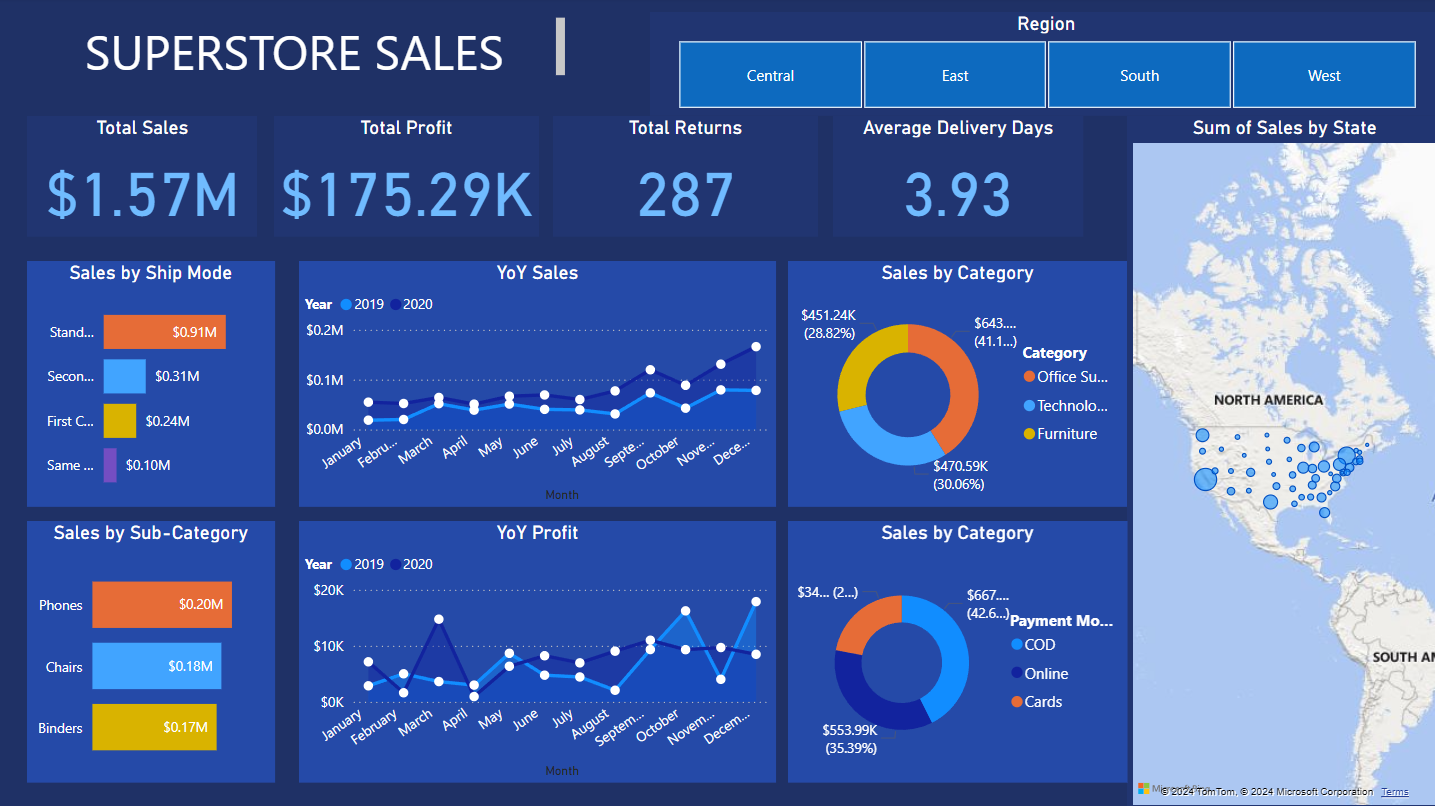

This screenshot's page, from the dashboard's own definition file:
{"tool":"powerbi","page":{"name":"Page 1","canvas":[1280,720],"ordinal":0},"visuals":[{"type":"donutChart","title":"Sales by Category","fields":{"Category":["SuperStore Sales DataSet xlsx - Sheet1.Category"],"Y":["Sum(SuperStore Sales DataSet xlsx - Sheet1.Sales)"]},"box":[699.2,233.5,300.8,218.4],"z":0},{"type":"card","title":"Total Sales","fields":{"Values":["Sum(SuperStore Sales DataSet xlsx - Sheet1.Sales)"]},"box":[24.4,104.5,204.4,106.9],"z":1000},{"type":"barChart","title":"Sales by Sub-Category","fields":{"Y":["Sum(SuperStore Sales DataSet xlsx - Sheet1.Sales)"],"Category":["SuperStore Sales DataSet xlsx - Sheet1.Sub-Category"]},"box":[24.4,463.4,219.5,232.3],"z":2000},{"type":"textbox","box":[24.4,12.8,482,63.9],"z":3000},{"type":"card","title":"Total Profit","fields":{"Values":["Sum(SuperStore Sales DataSet xlsx - Sheet1.Profit)"]},"box":[243.9,104.5,234.6,106.9],"z":4000},{"type":"barChart","title":"Sales by Ship Mode","fields":{"Y":["Sum(SuperStore Sales DataSet xlsx - Sheet1.Sales)"],"Category":["SuperStore Sales DataSet xlsx - Sheet1.Ship Mode"]},"box":[24.4,233.5,219.5,218.4],"z":5000},{"type":"areaChart","title":"YoY Sales","fields":{"Y":["Sum(SuperStore Sales DataSet xlsx - Sheet1.Sales)"],"Category":["SuperStore Sales DataSet xlsx - Sheet1.Order Date.Variation.Date Hierarchy.Month"],"Series":["SuperStore Sales DataSet xlsx - Sheet1.Order Date.Variation.Date Hierarchy.Year"]},"box":[266,233.5,422.8,218.4],"z":6000},{"type":"card","title":"Total Returns","fields":{"Values":["Sum(SuperStore Sales DataSet xlsx - Sheet1.Returns)"]},"box":[491.3,104.5,234.6,106.9],"z":7000},{"type":"card","title":"Average Delivery Days","fields":{"Values":["Avg(SuperStore Sales DataSet xlsx - Sheet1.Delivery Days)"]},"box":[739.9,104.5,221.9,106.9],"z":8000},{"type":"map","fields":{"Category":["SuperStore Sales DataSet xlsx - Sheet1.State"],"Size":["Sum(SuperStore Sales DataSet xlsx - Sheet1.Sales)"]},"box":[1000.1,104.5,279.9,615.6],"z":9000},{"type":"areaChart","title":"YoY Profit","fields":{"Category":["SuperStore Sales DataSet xlsx - Sheet1.Order Date.Variation.Date Hierarchy.Month"],"Series":["SuperStore Sales DataSet xlsx - Sheet1.Order Date.Variation.Date Hierarchy.Year"],"Y":["Sum(SuperStore Sales DataSet xlsx - Sheet1.Profit)"]},"box":[266,463.4,422.8,232.3],"z":10000},{"type":"donutChart","title":"Sales by Category","fields":{"Category":["SuperStore Sales DataSet xlsx - Sheet1.Payment Mode"],"Y":["Sum(SuperStore Sales DataSet xlsx - Sheet1.Sales)"]},"box":[699.2,463.4,300.8,232.3],"z":11000},{"type":"slicer","title":"Region","fields":{"Values":["SuperStore Sales DataSet xlsx - Sheet1.Region"]},"box":[577.3,12.8,702.7,91.8],"z":12000}]}

Visuals, with their boxes in screenshot pixels (x1, y1, x2, y2), scaled from the page's 1280x720 canvas onto the 1435x806 screenshot:
"Sales by Category" donutChart: x1=784 y1=261 x2=1121 y2=506
"Total Sales" card: x1=27 y1=117 x2=257 y2=237
"Sales by Sub-Category" barChart: x1=27 y1=519 x2=273 y2=779
textbox: x1=27 y1=14 x2=568 y2=86
"Total Profit" card: x1=273 y1=117 x2=536 y2=237
"Sales by Ship Mode" barChart: x1=27 y1=261 x2=273 y2=506
"YoY Sales" areaChart: x1=298 y1=261 x2=772 y2=506
"Total Returns" card: x1=551 y1=117 x2=814 y2=237
"Average Delivery Days" card: x1=829 y1=117 x2=1078 y2=237
map - SuperStore Sales DataSet xlsx - Sheet1.State x Sum(SuperStore Sales DataSet xlsx - Sheet1.Sales): x1=1121 y1=117 x2=1434 y2=805
"YoY Profit" areaChart: x1=298 y1=519 x2=772 y2=779
"Sales by Category" donutChart: x1=784 y1=519 x2=1121 y2=779
"Region" slicer: x1=647 y1=14 x2=1434 y2=117
